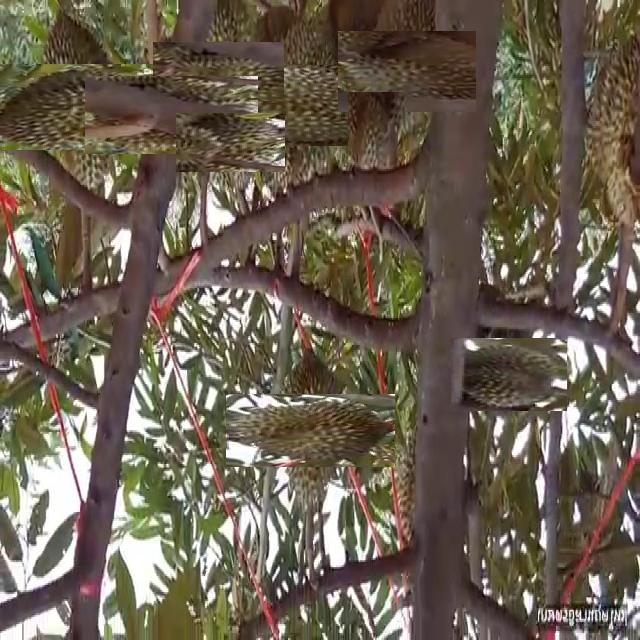durian: (12, 36, 154, 178), (235, 40, 367, 172), (108, 52, 234, 178), (250, 370, 372, 491), (352, 17, 462, 127), (580, 37, 638, 232), (461, 327, 556, 422), (171, 24, 266, 119), (188, 100, 273, 184), (348, 92, 406, 208)
